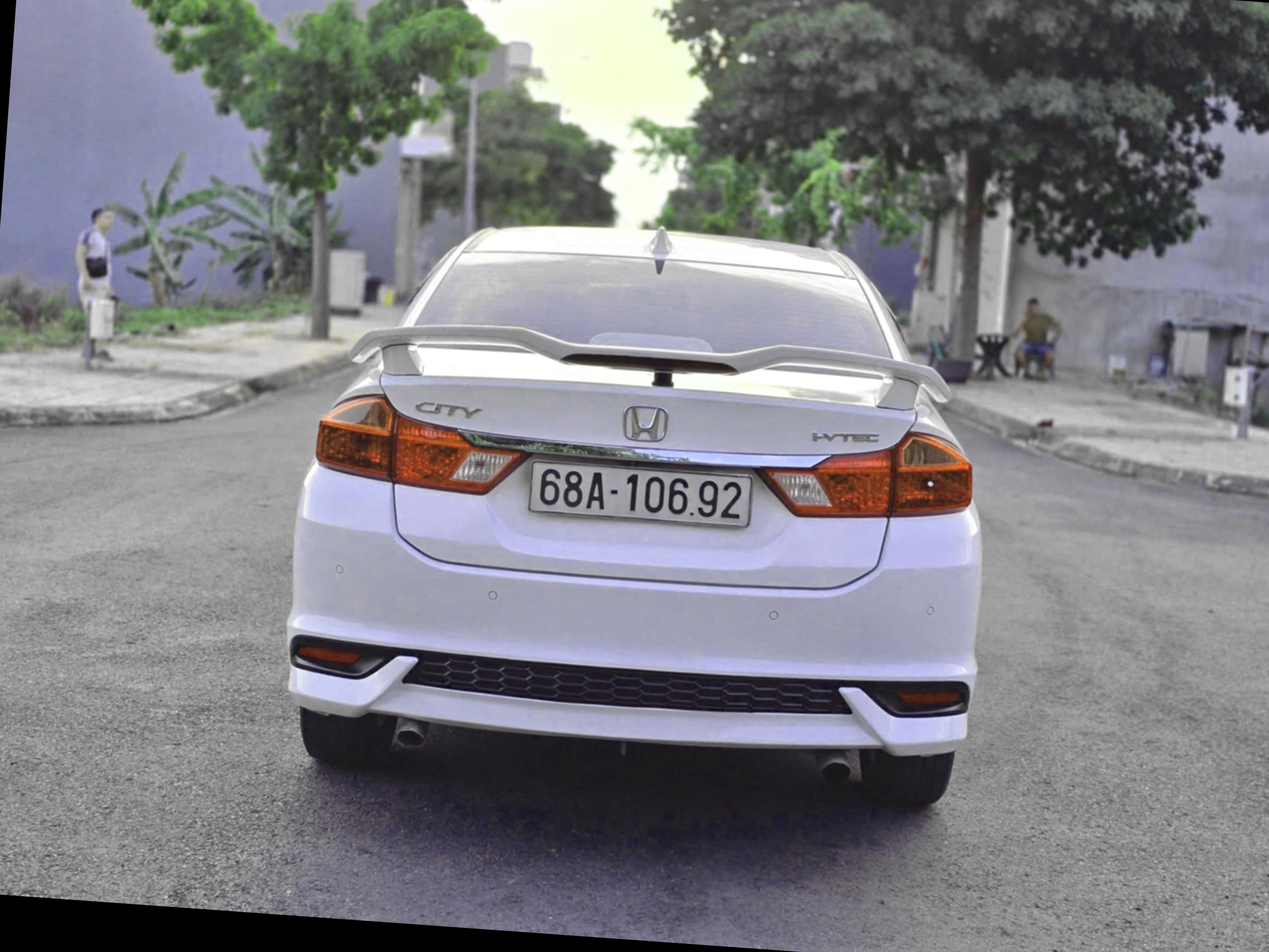Bien-so: (502, 478, 736, 549)
